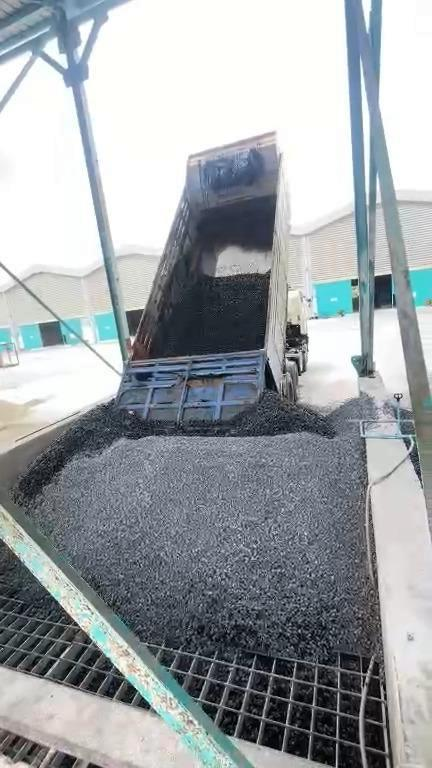gravel: (13, 389, 379, 657), (154, 275, 268, 356), (1, 547, 61, 620)
sand: (1, 396, 62, 449)
